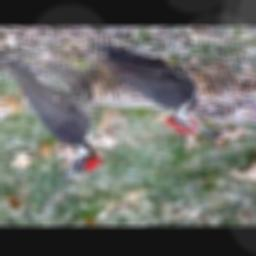Woodpecker: (0, 55, 104, 179), (92, 52, 221, 139)
